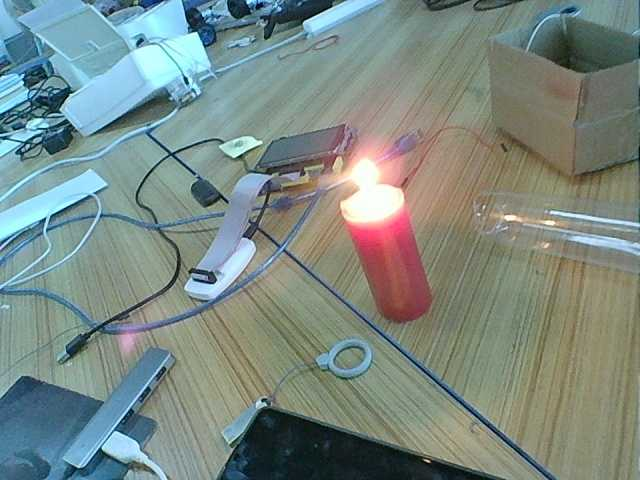candle: (350, 220, 441, 326)
fire: (337, 164, 408, 217)
